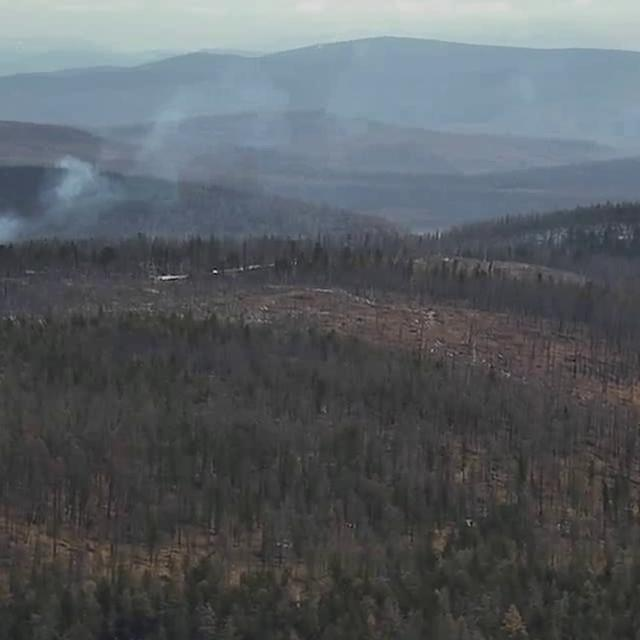Smoke: (1, 104, 205, 265)
